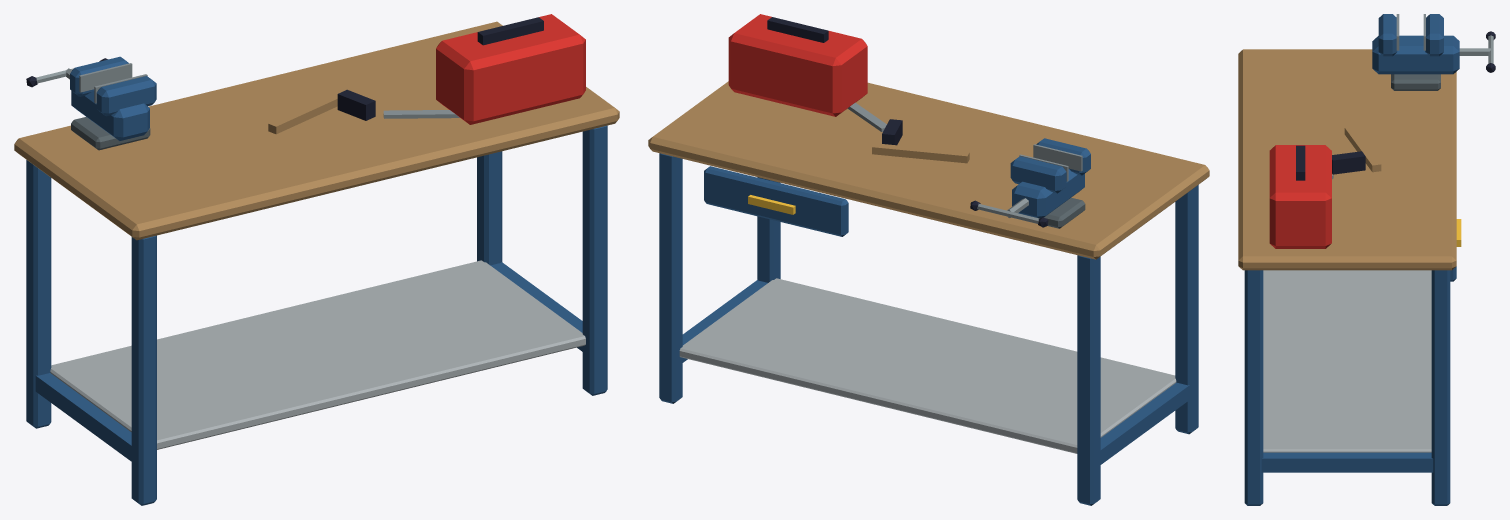
Rendered from sm_env_depot_workbench_vise.glb.
3 renders of one model, left to right at view 1: azimuth 30°, elevation 25°; view 2: azimuth 150°, elevation 25°; view 3: azimuth 270°, elevation 25°, orthographic. The views are drawn at different scales.
Visible parts, largest first — view 1: Top, Shelf, Toolbox, Leg.001, Leg.003, Leg, Leg.002, LegTie, ViseBody, ViseFixedJaw, LegTie.001, ViseBase (+5 smaller); view 2: Top, Shelf, Toolbox, Leg, Leg.002, Leg.001, Drawer, LegTie, ViseBody, Leg.003, ViseMovingJaw, Hammer (+5 smaller); view 3: Top, Shelf, Toolbox, Leg.002, Leg.003, LegTie.001, ViseBody, ViseBase, ViseFixedJaw, ViseMovingJaw, HammerHead, Hammer (+1 smaller).
Part boxes in pixels (x1,y1,x2,y2): Top: (14, 21, 619, 240); Shelf: (50, 260, 585, 449); Toolbox: (436, 14, 585, 124); Leg.001: (131, 235, 156, 505); Leg.003: (582, 125, 607, 395); Leg: (26, 160, 51, 428); Leg.002: (477, 151, 502, 265); LegTie: (35, 373, 131, 461); ViseBody: (71, 90, 149, 140); ViseFixedJaw: (96, 76, 156, 116); LegTie.001: (490, 262, 582, 351); ViseBase: (71, 117, 150, 150); Top: (648, 81, 1209, 259); Shelf: (679, 278, 1176, 453); Toolbox: (728, 14, 867, 116); Leg: (1077, 255, 1100, 505); Leg.002: (659, 153, 682, 403); Leg.001: (1175, 185, 1198, 434); Drawer: (704, 166, 848, 236); LegTie: (1100, 382, 1189, 464); ViseBody: (1012, 169, 1084, 218); Leg.003: (757, 177, 780, 282); ViseMovingJaw: (1010, 156, 1066, 193); Hammer: (872, 143, 969, 163); Top: (1238, 49, 1456, 270); Shelf: (1263, 270, 1431, 452); Toolbox: (1269, 145, 1331, 248); Leg.002: (1431, 270, 1450, 505); Leg.003: (1244, 270, 1263, 505); LegTie.001: (1261, 452, 1433, 472); ViseBody: (1372, 35, 1459, 74); ViseBase: (1391, 74, 1440, 90); ViseFixedJaw: (1378, 14, 1397, 56); ViseMovingJaw: (1425, 14, 1443, 56); HammerHead: (1332, 151, 1365, 174); Hammer: (1344, 126, 1381, 172).
Size of the model in its own units: 1.6 by 1.13 by 0.8253.
